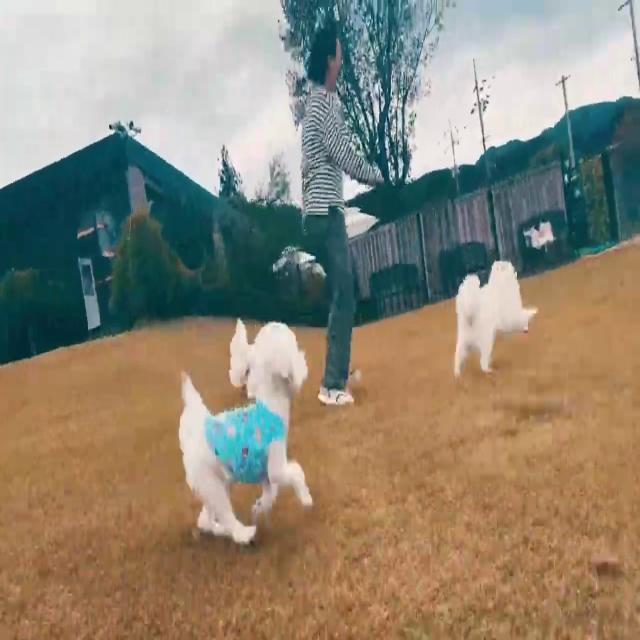Unleashed_Dog: (179, 195, 342, 546), (322, 195, 538, 380)
